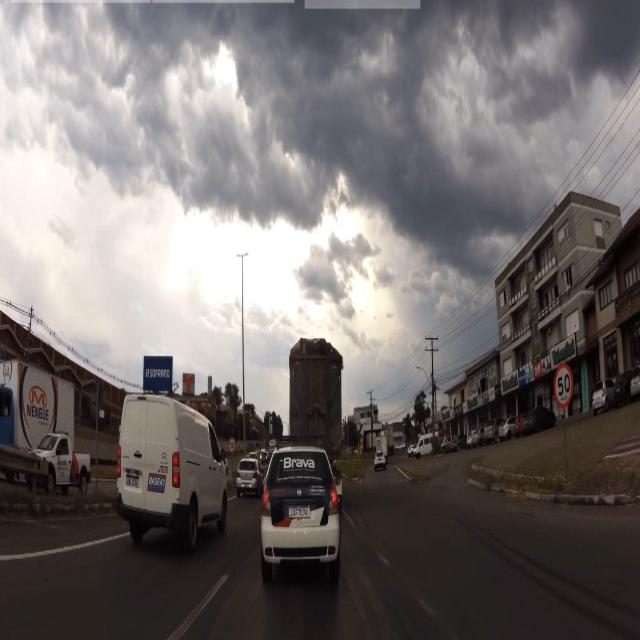R-19: (553, 364, 574, 409)
